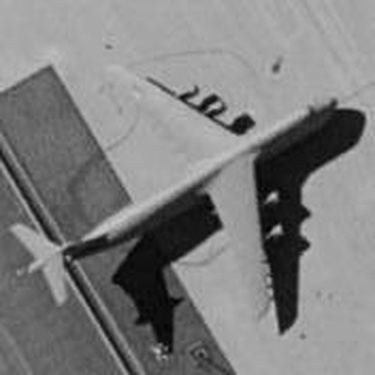airplane: (8, 35, 354, 354)
